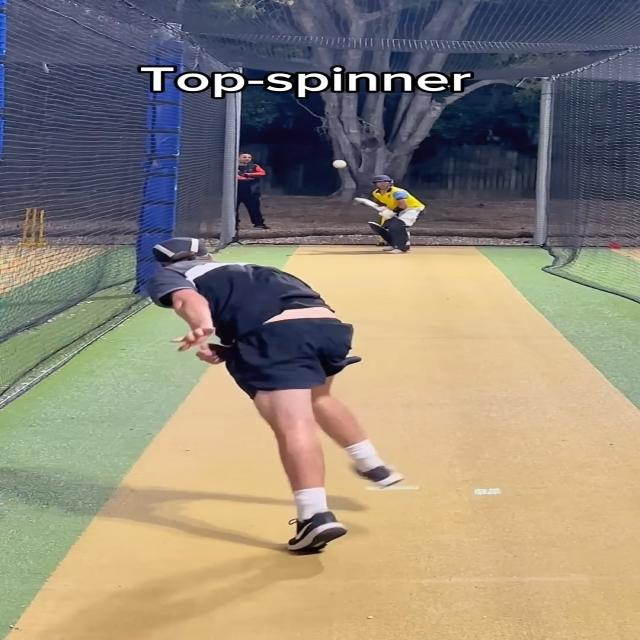Cricket ball: (331, 159, 348, 169)
